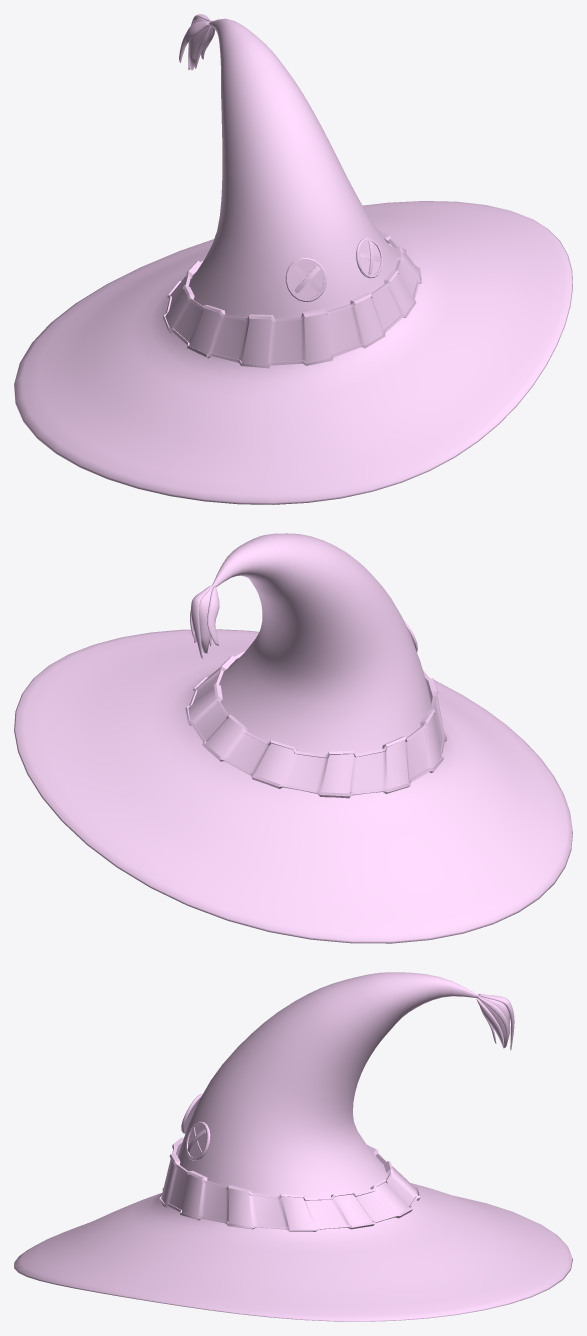
The picture shows the model from 3 angles, top to bottom: view 1: azimuth 30°, elevation 25°; view 2: azimuth 150°, elevation 25°; view 3: azimuth 270°, elevation 25°; orthographic projection.
Visible parts, largest first — view 1: hair_part_5_low; view 2: hair_part_5_low; view 3: hair_part_5_low.
Part boxes in pixels (<box>): hair_part_5_low: <box>14,14,572,504</box>; hair_part_5_low: <box>14,533,572,943</box>; hair_part_5_low: <box>14,972,572,1321</box>.
Bounding box in the file's own units: 2 × 1.3 × 1.99.
